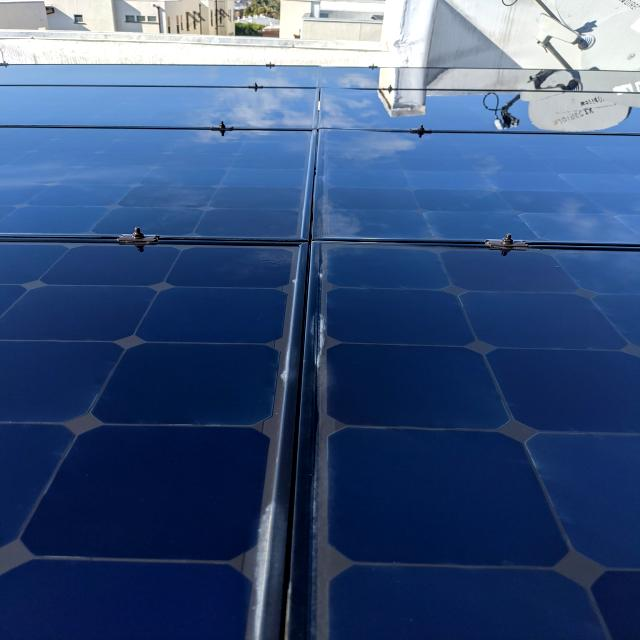crack: (310, 428, 576, 578), (59, 421, 292, 562), (292, 556, 631, 640), (94, 322, 305, 446), (500, 416, 640, 563), (319, 344, 519, 437), (484, 344, 640, 447), (442, 286, 640, 361), (308, 276, 494, 354), (0, 333, 117, 451), (125, 282, 334, 348), (10, 277, 168, 353), (309, 207, 467, 244), (200, 203, 308, 252)
